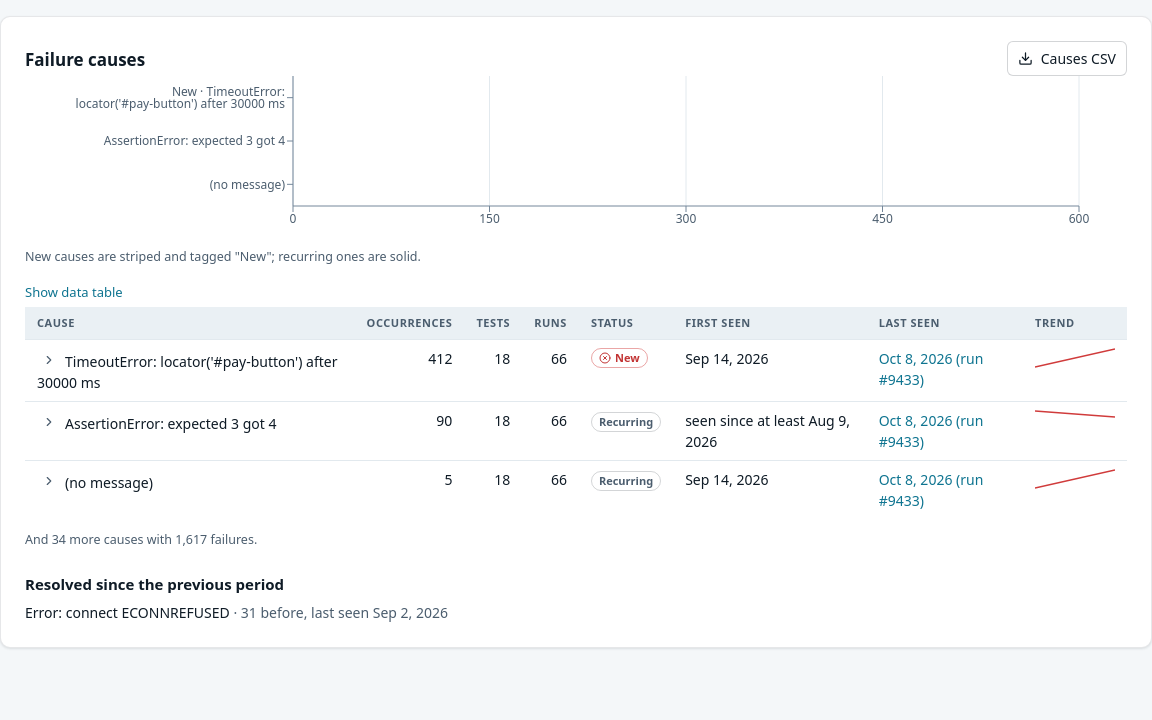
Test: rows expand to their tests, each linking to its history on the branch
The image size is (1152, 720).
Click the button named "show tests".
click(49, 360)  # box [37,348,61,372]
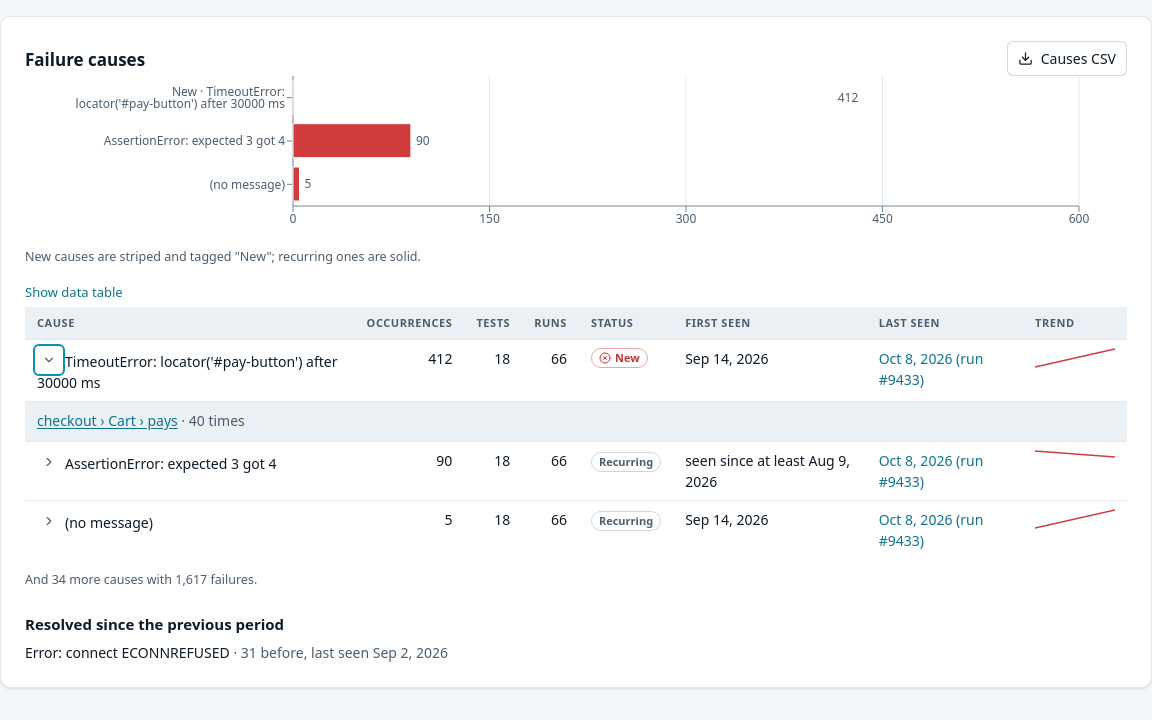
expect the button named "show tests" is expanded: met, box [37,348,61,372]
